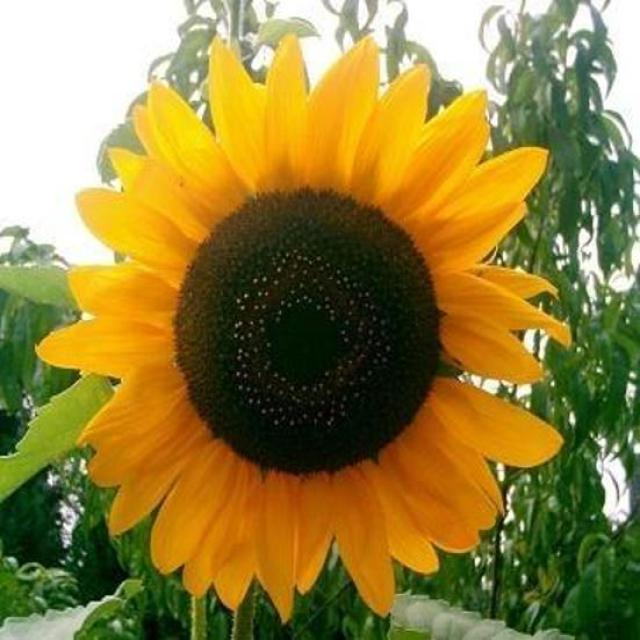sunflower: (44, 20, 581, 625)
